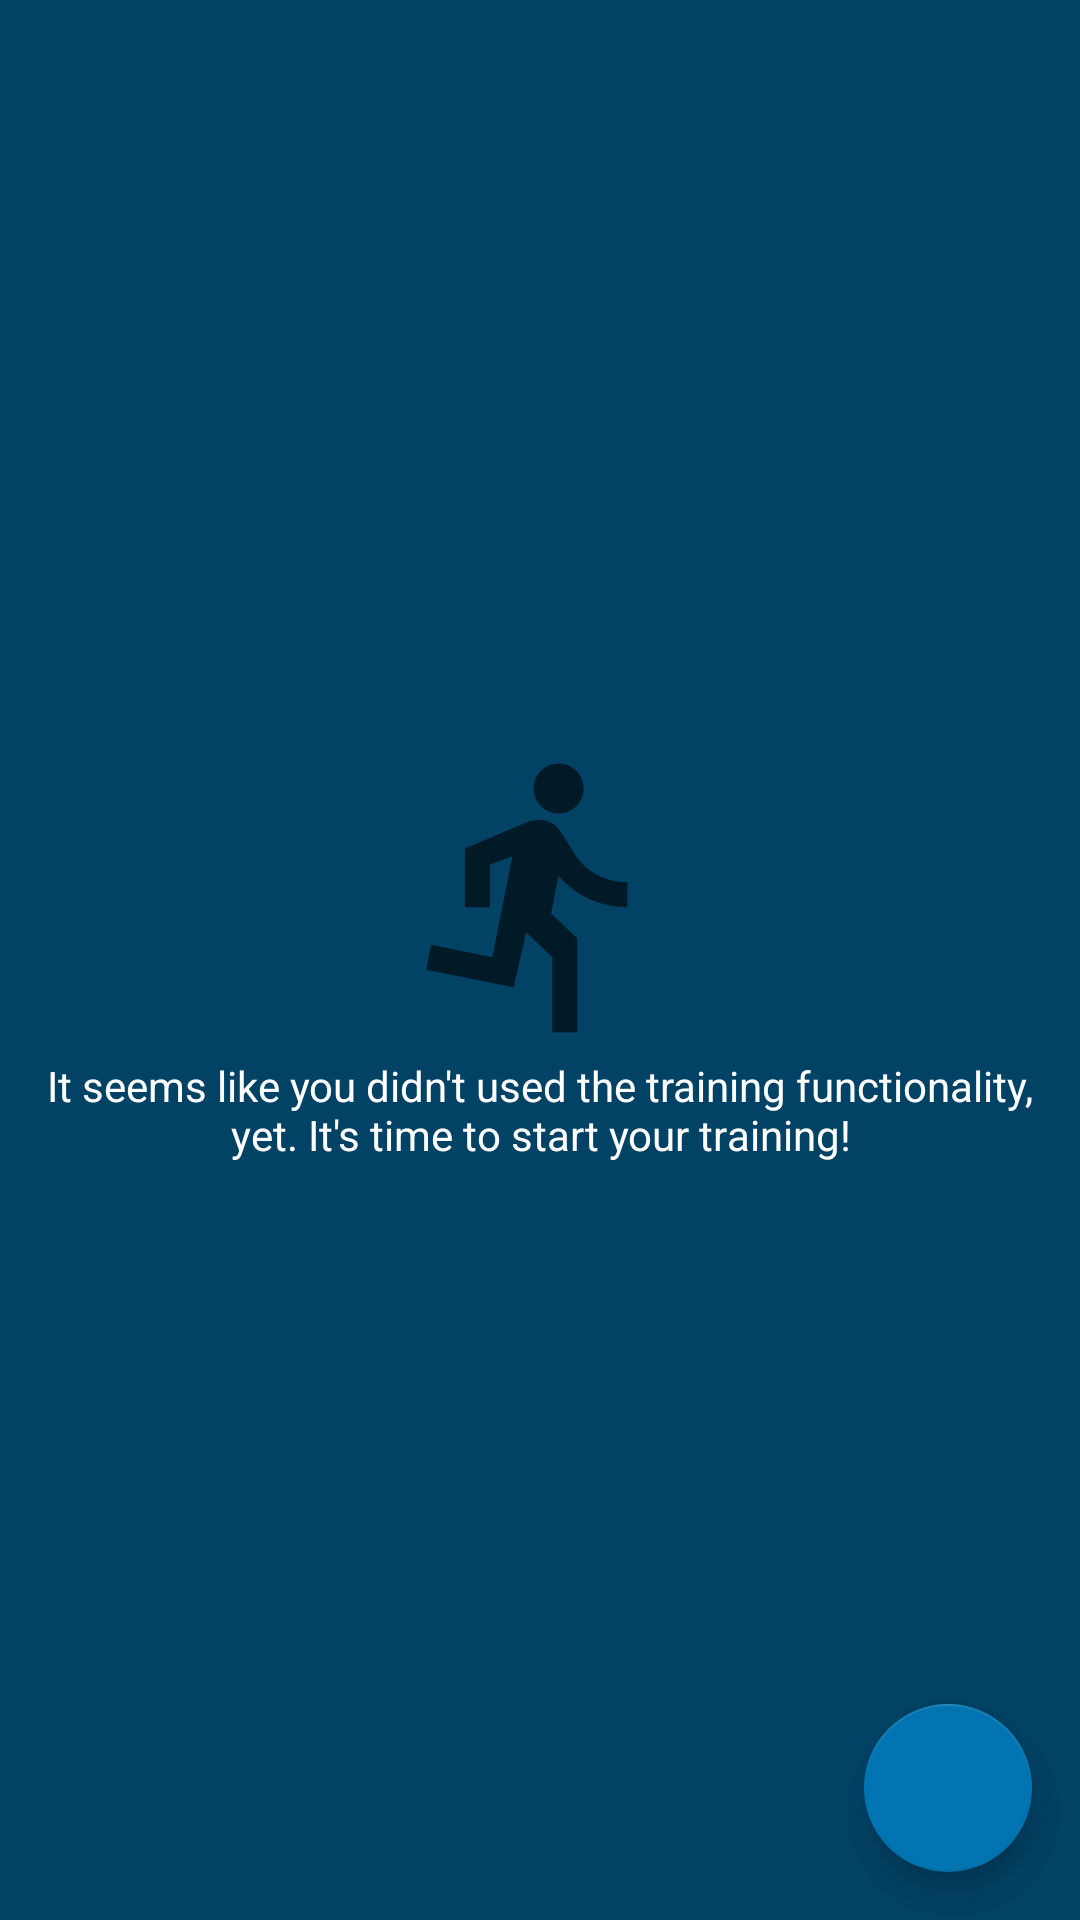

Screen size 1080px x 1920px. Icon name, then its box in pixels as (x1, y1, x2, y2):
directions run: (426, 763, 627, 1032)
